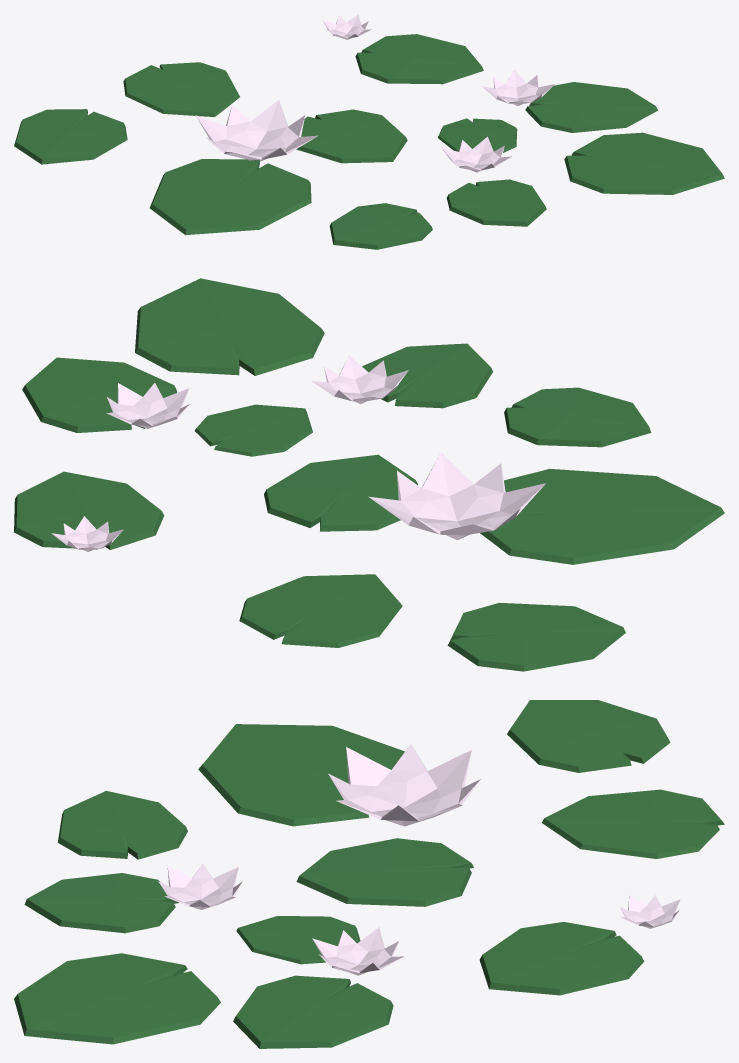
Rendered from Lili Asia.fbx.
3 views of the same model, one above another, from view 1: azimuth 30°, elevation 25°; view 2: azimuth 150°, elevation 25°; view 3: azimuth 270°, elevation 25° (orthographic). The views are drawn at different scales.
Parts seen in each view (by area): view 1: Lili_1; view 2: Lili_1; view 3: Lili_1.
Part boxes in pixels (box(x1,y1,x2,y2)): Lili_1: box(14, 14, 724, 249); Lili_1: box(14, 278, 724, 671); Lili_1: box(14, 700, 724, 1048).
Size of the model in its own units: 1.13 by 0.0803 by 0.9796.
